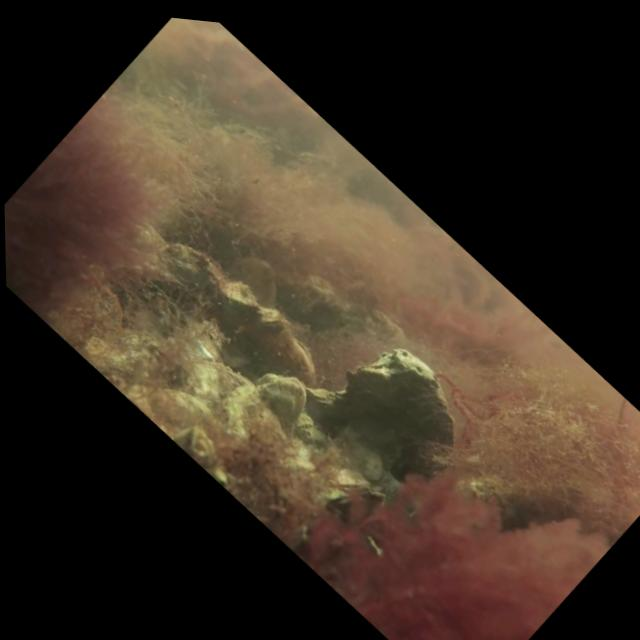Oyster-Closed: (276, 334, 320, 386), (218, 278, 257, 313), (332, 464, 378, 492), (254, 309, 283, 329)
Oyster-Indeterminate: (249, 368, 307, 441)
